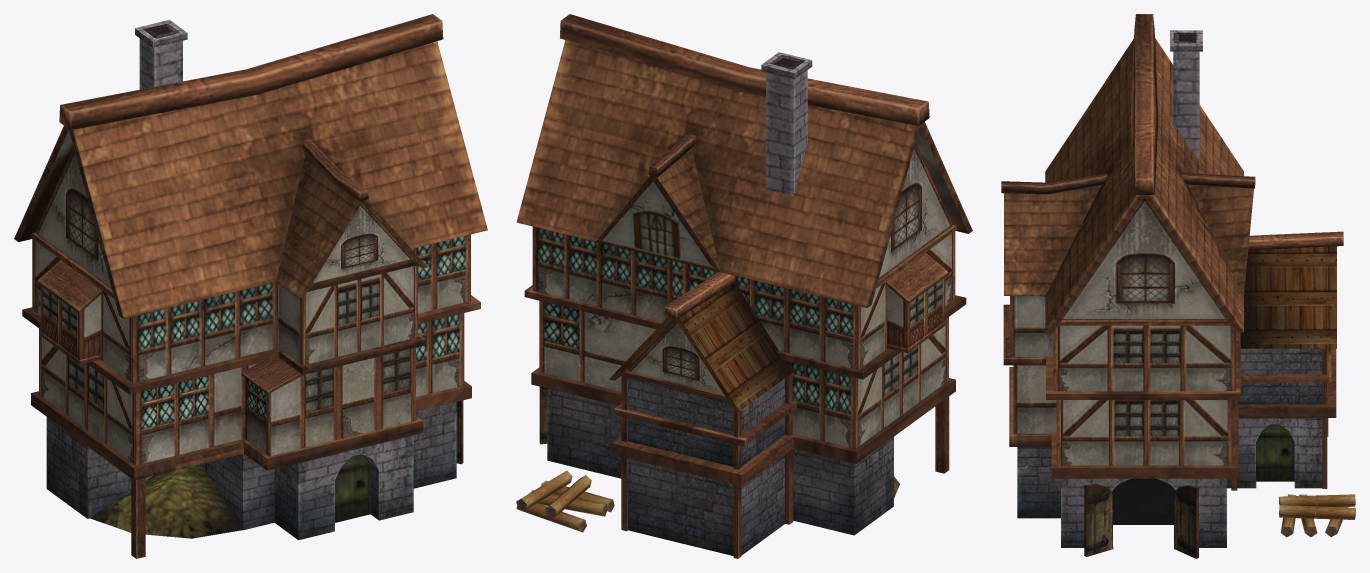
The model's file is MEB_building_01.FBX.
The picture shows the model from 3 angles, left to right: view 1: azimuth 30°, elevation 25°; view 2: azimuth 150°, elevation 25°; view 3: azimuth 270°, elevation 25°; orthographic projection. The views are drawn at different scales.
Visible parts, largest first — view 1: MEB_building_01; view 2: MEB_building_01; view 3: MEB_building_01.
Boxes of the visible parts, bbox=[...] form: MEB_building_01: bbox=[14, 14, 487, 558]; MEB_building_01: bbox=[516, 14, 972, 558]; MEB_building_01: bbox=[1001, 14, 1355, 558].
Bounding box in the file's own units: 1028 × 1181 × 920.
